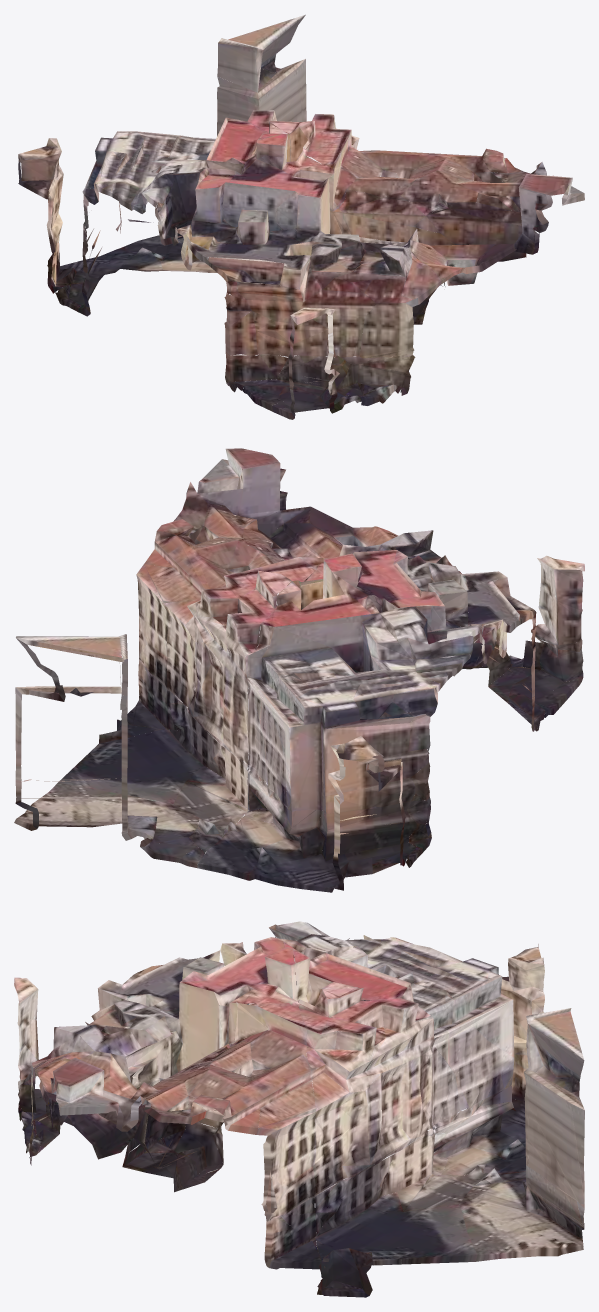
3 views of the same model, one above another, from view 1: azimuth 30°, elevation 25°; view 2: azimuth 150°, elevation 25°; view 3: azimuth 270°, elevation 25° (orthographic). The views are drawn at different scales.
Visible parts, largest first — view 1: Mesh_0; view 2: Mesh_0; view 3: Mesh_0.
Part boxes in pixels (bbox=[...]): Mesh_0: bbox=[18, 14, 584, 419]; Mesh_0: bbox=[14, 448, 584, 892]; Mesh_0: bbox=[14, 921, 584, 1297].
Size of the model in its own units: 67.45 by 38.39 by 82.52.
2 materials, 2 textured.
